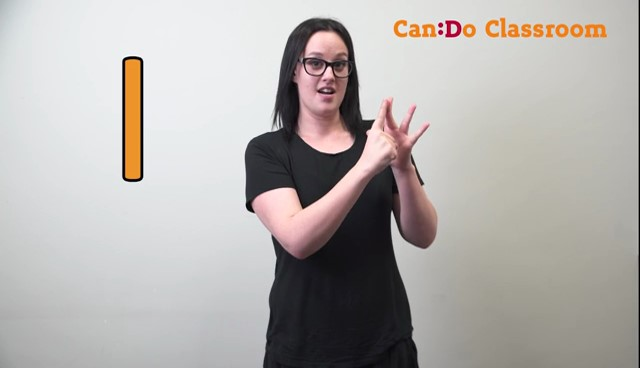I: (360, 88, 436, 181)
